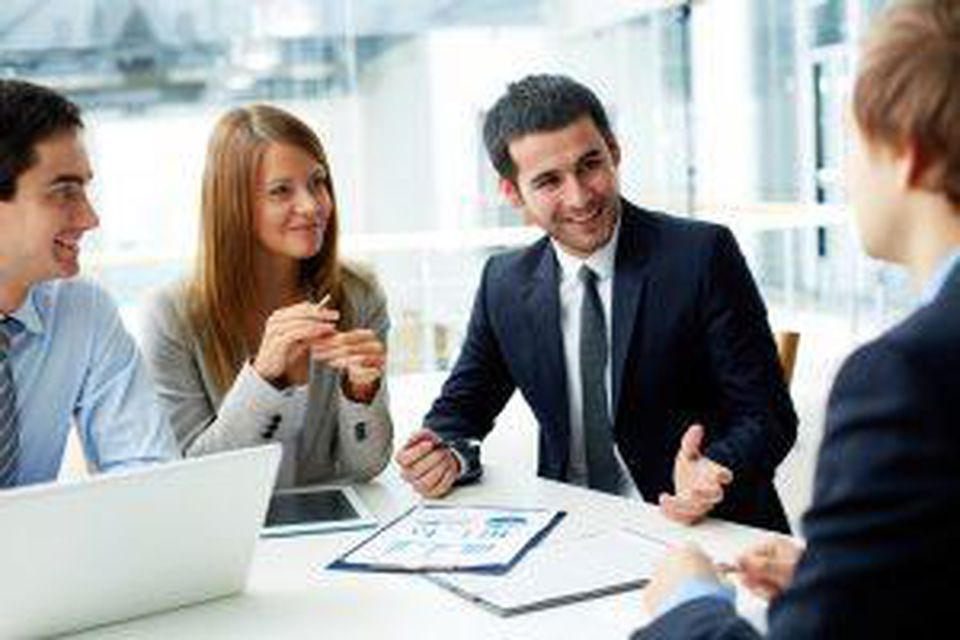Person: (427, 96, 779, 505), (784, 24, 960, 640), (174, 119, 389, 481), (3, 77, 136, 553)
